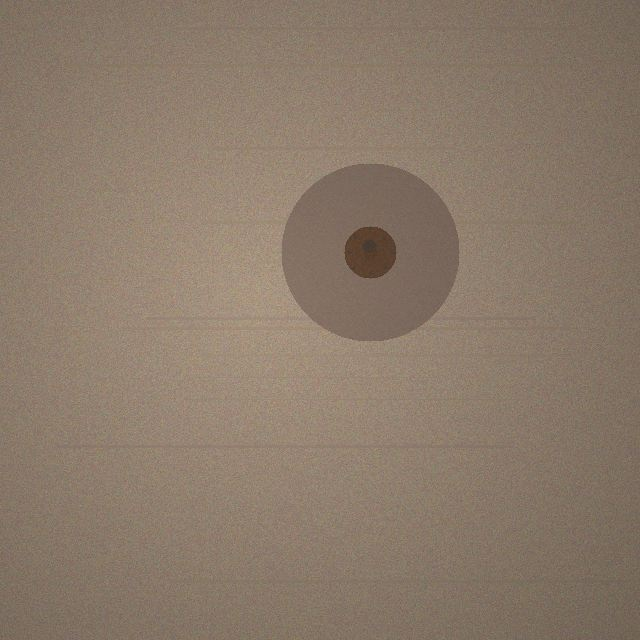cold_weld: (281, 163, 459, 341)
